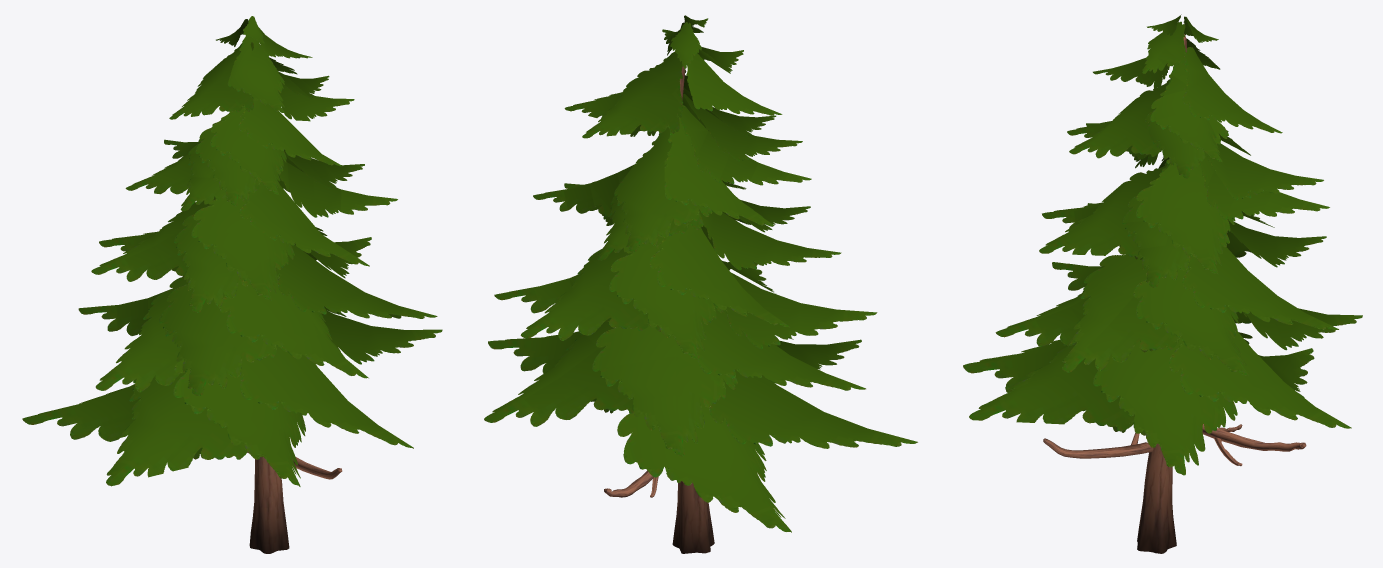
Rendered from pin.lod1.glb.
3 views of the same model, side by side, from view 1: azimuth 30°, elevation 25°; view 2: azimuth 150°, elevation 25°; view 3: azimuth 270°, elevation 25° (orthographic). The views are drawn at different scales.
Parts seen in each view (by area): view 1: Pine_2; view 2: Pine_2; view 3: Pine_2.
Boxes of the visible parts, x1=… form: Pine_2: x1=22, y1=16, x2=442, y2=553; Pine_2: x1=484, y1=15, x2=917, y2=553; Pine_2: x1=963, y1=14, x2=1362, y2=553.
Bounding box in the file's own units: 5.73 × 7.38 × 5.22.
Materials: 2 (2 with a texture image).
